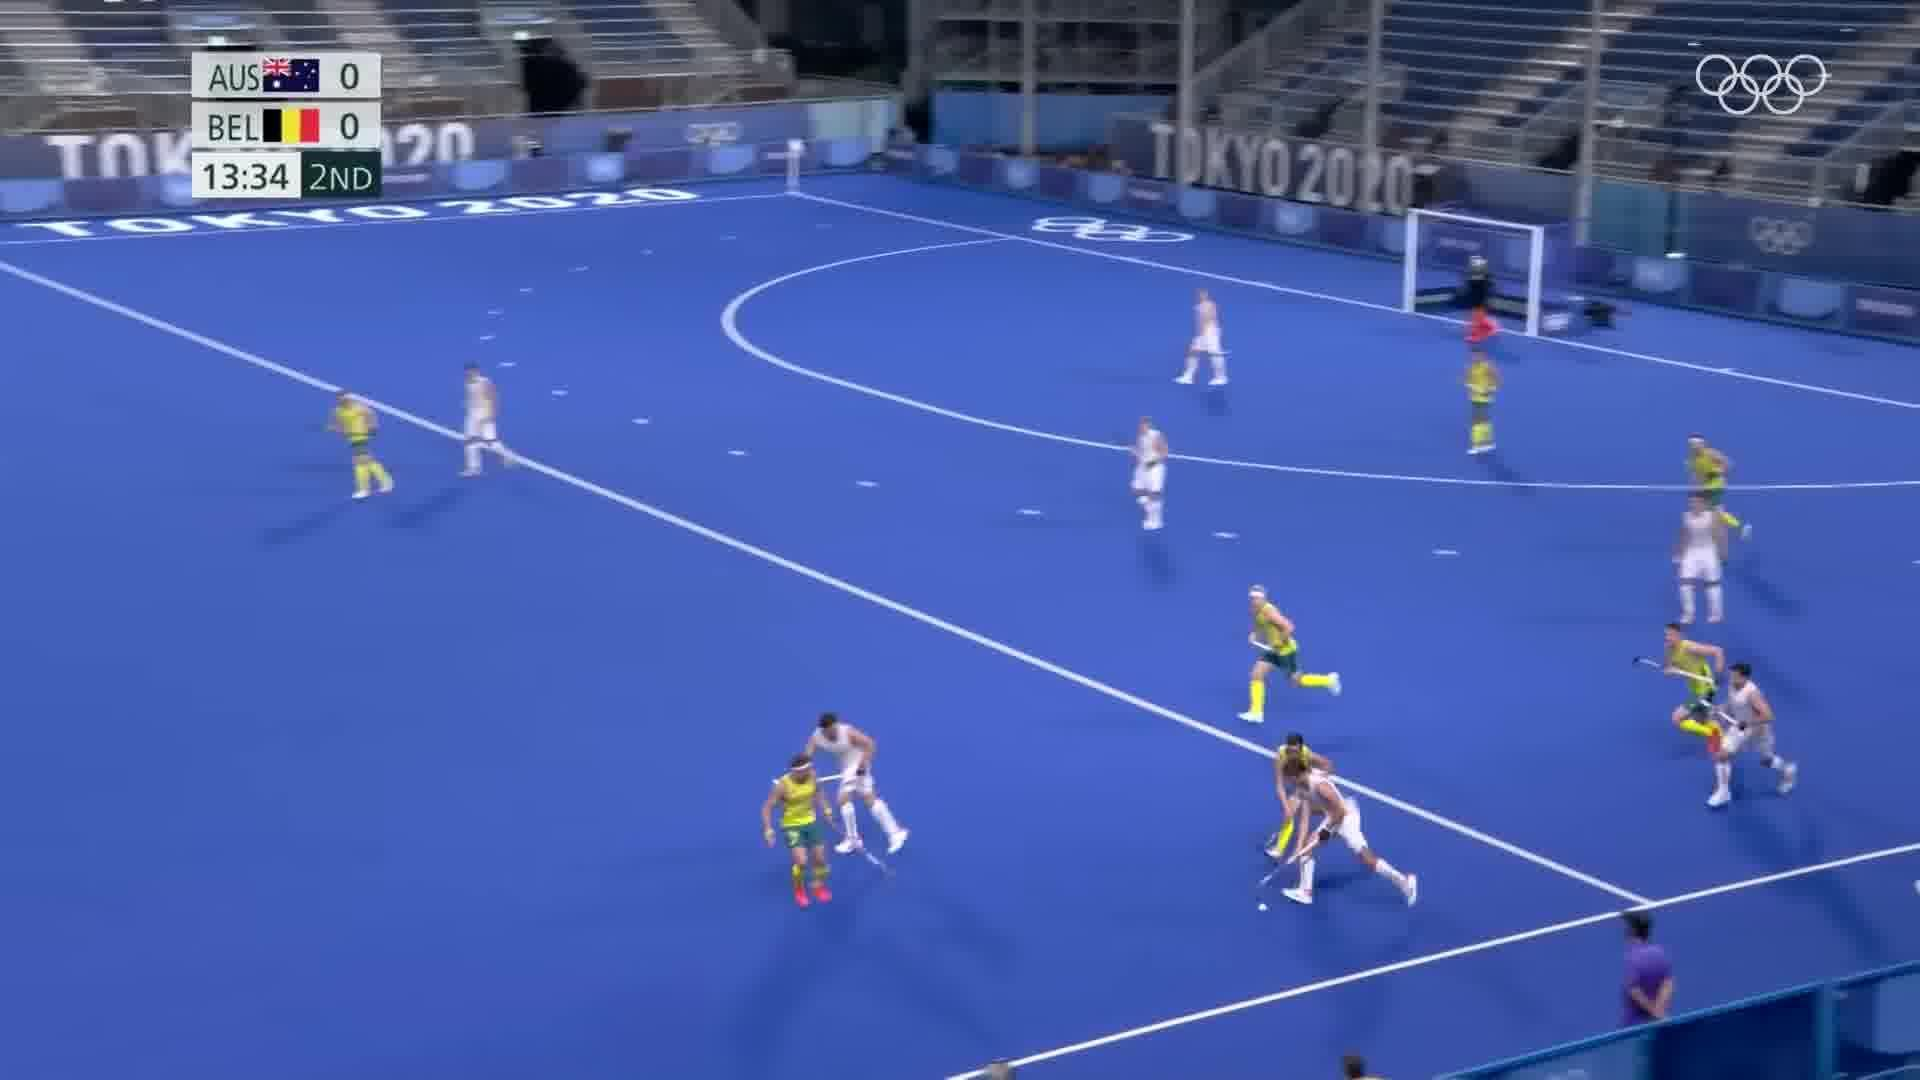ball: (1251, 895, 1271, 922)
